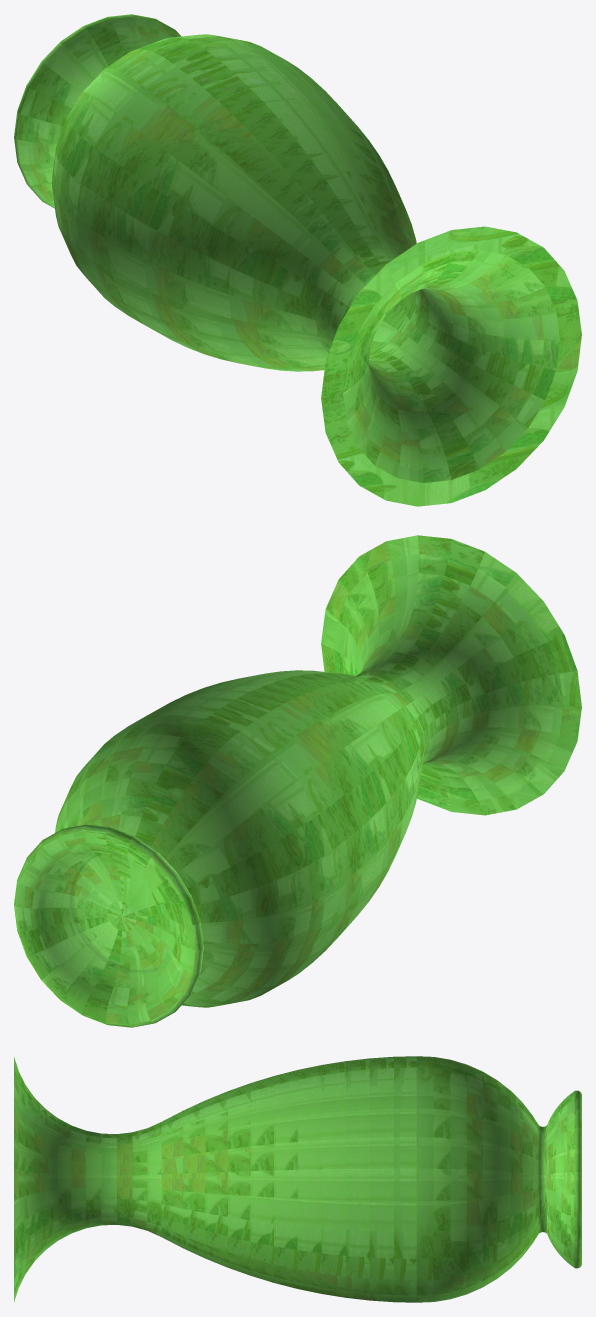
Rendered from model_scale.obj.
3 views of the same model, one above another, from view 1: azimuth 30°, elevation 25°; view 2: azimuth 150°, elevation 25°; view 3: azimuth 270°, elevation 25° (orthographic). The views are drawn at different scales.
Visible parts, largest first — view 1: mesh1_mesh1-geometry; view 2: mesh1_mesh1-geometry; view 3: mesh1_mesh1-geometry.
Boxes of the visible parts, x1,y1,x2,y2 form: mesh1_mesh1-geometry: (14,14,581,506); mesh1_mesh1-geometry: (14,535,581,1027); mesh1_mesh1-geometry: (14,1056,581,1302).
Bounding box in the file's own units: 0.1035 × 0.1035 × 0.2375.
